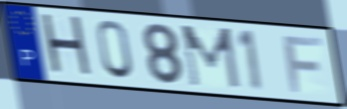0: (96, 19, 135, 81)
1: (236, 28, 265, 94)
8: (141, 22, 185, 86)
F: (281, 35, 326, 95)
H: (38, 11, 96, 81)
M: (179, 24, 243, 92)
